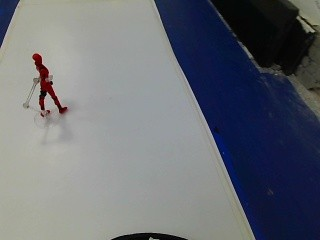pedestrian: (22, 49, 77, 120)
